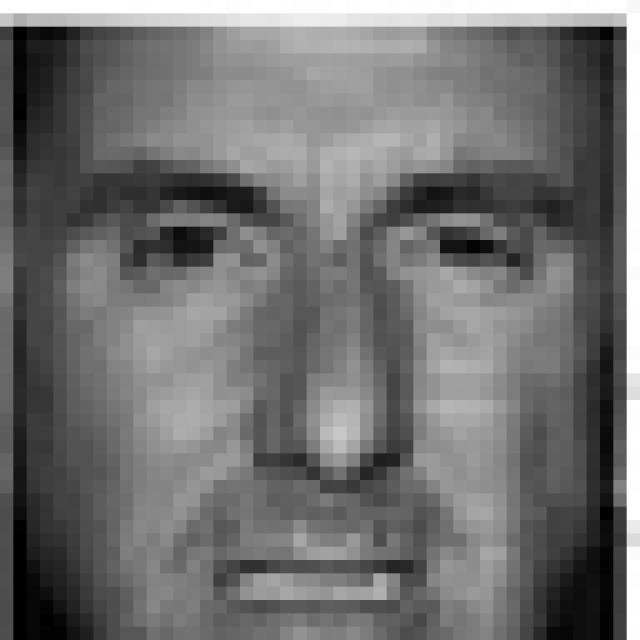disgust: (66, 159, 584, 640)
